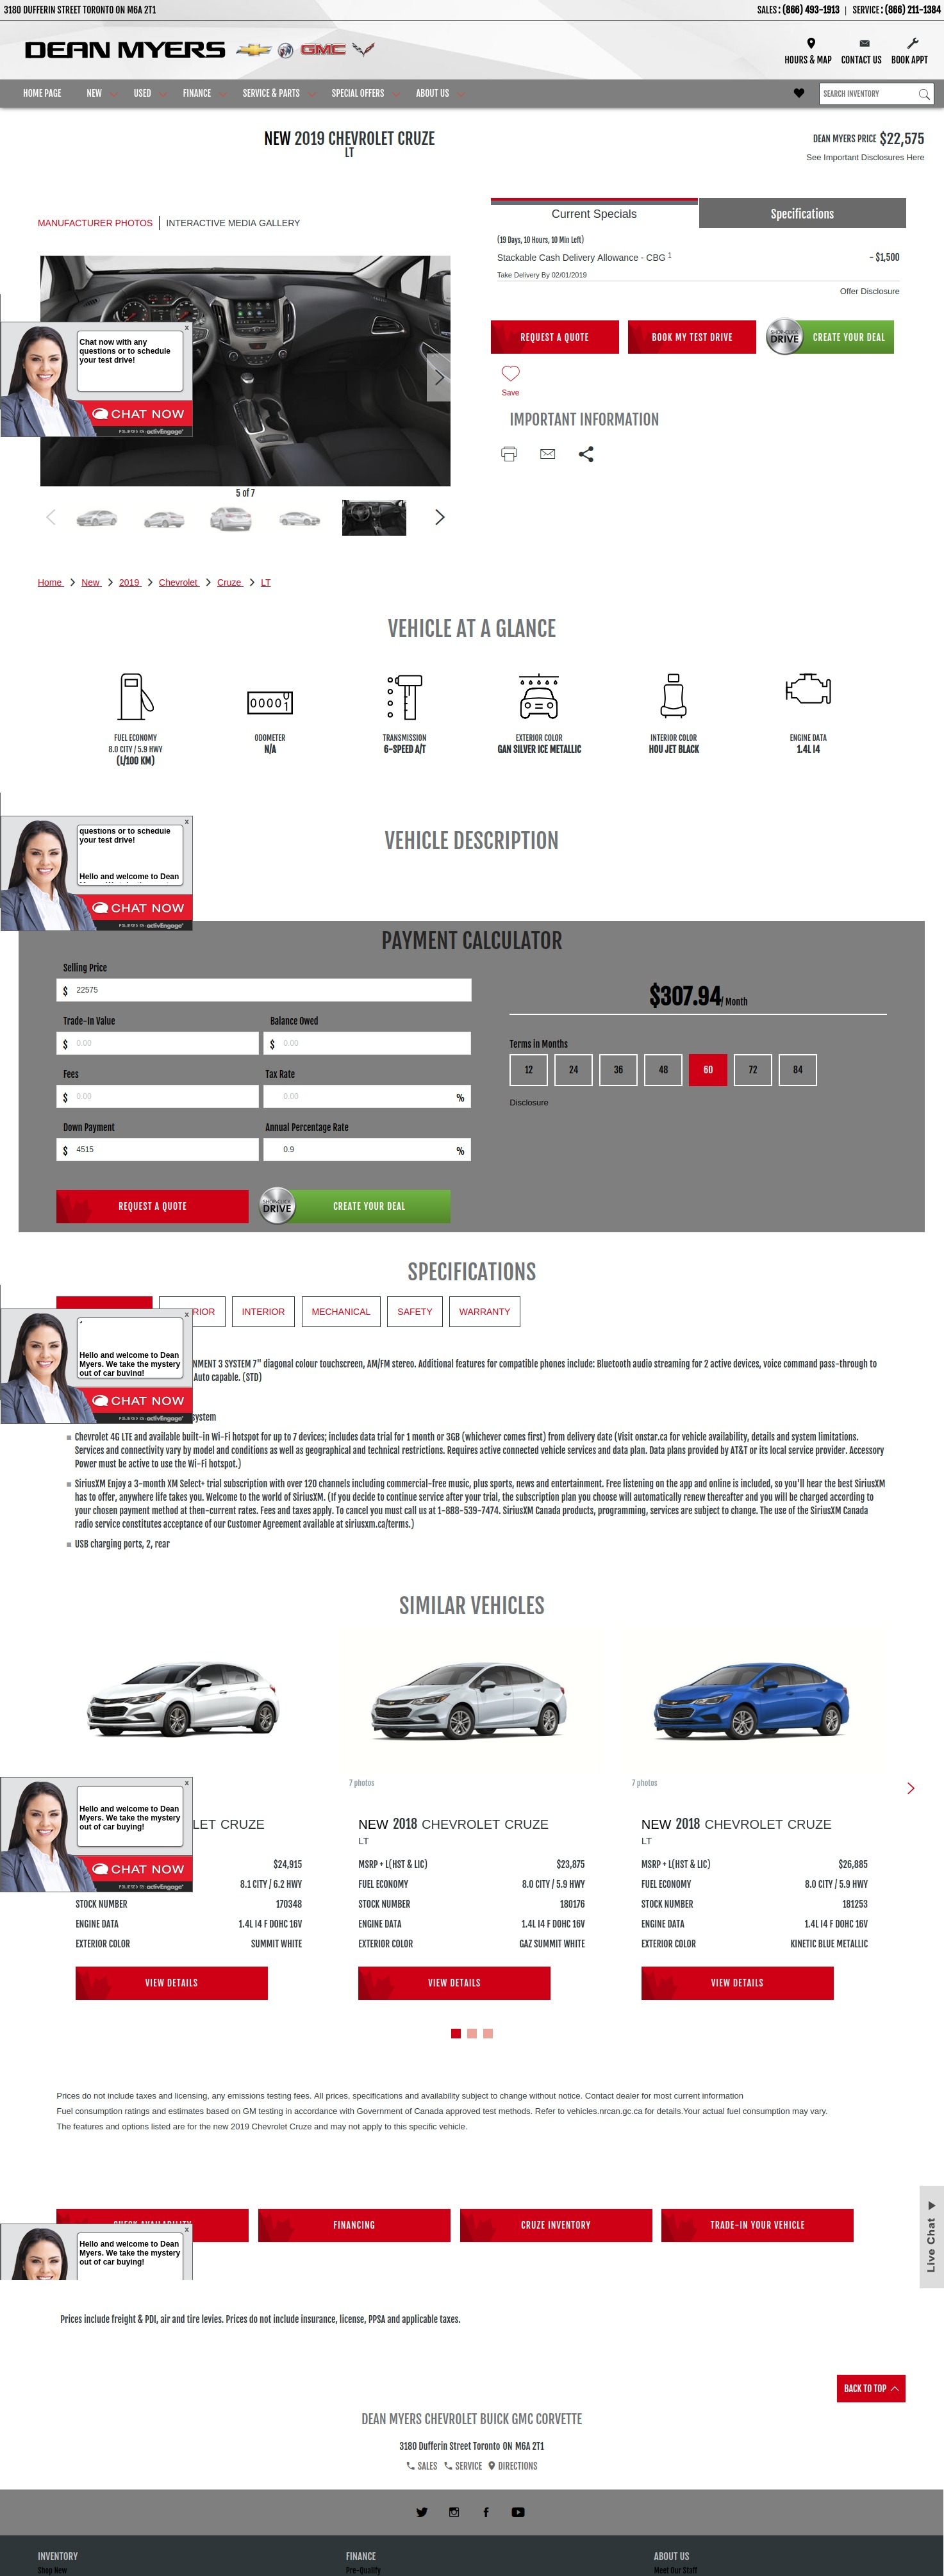car: (432, 508, 448, 529)
